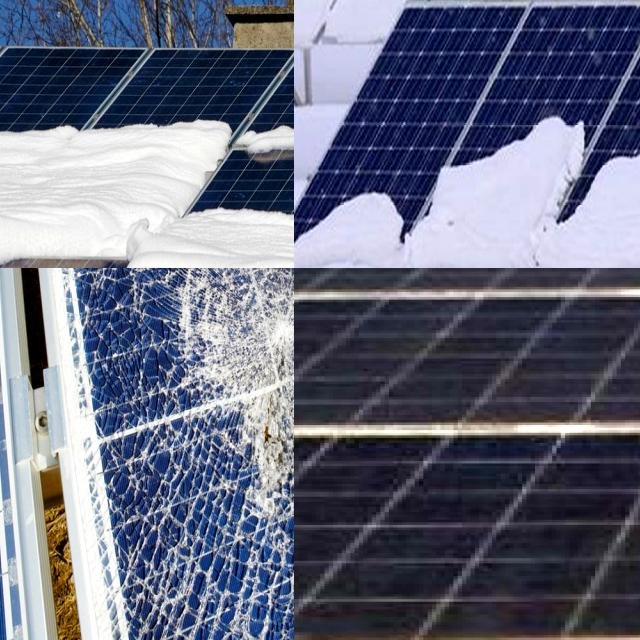dust: (360, 437, 640, 635), (294, 296, 640, 427), (294, 440, 417, 635), (294, 268, 640, 309), (294, 268, 640, 295)
hotspot: (170, 268, 294, 527), (137, 563, 294, 640)
panel: (107, 100, 236, 180), (42, 110, 238, 158), (320, 171, 418, 263), (434, 149, 508, 263), (546, 149, 640, 231), (505, 100, 593, 186), (9, 208, 119, 268), (176, 179, 260, 243), (0, 95, 85, 152), (365, 0, 466, 45), (294, 0, 362, 59), (547, 0, 640, 42), (426, 0, 523, 39), (294, 0, 369, 47), (0, 213, 58, 268), (241, 105, 294, 164), (382, 0, 454, 38), (447, 0, 541, 29), (127, 209, 171, 268), (317, 0, 397, 32), (266, 180, 294, 251), (0, 129, 25, 200), (318, 0, 373, 31), (294, 0, 326, 40), (294, 219, 318, 268), (294, 0, 330, 30), (294, 0, 327, 26), (294, 0, 324, 27), (294, 0, 333, 17)
